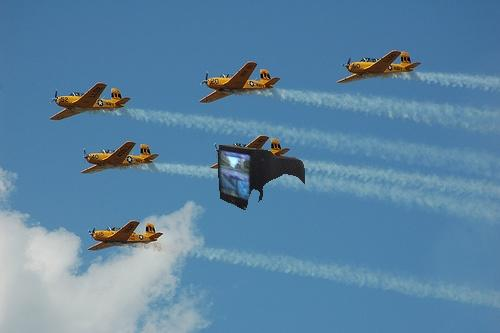tampered: (219, 146, 305, 210)
